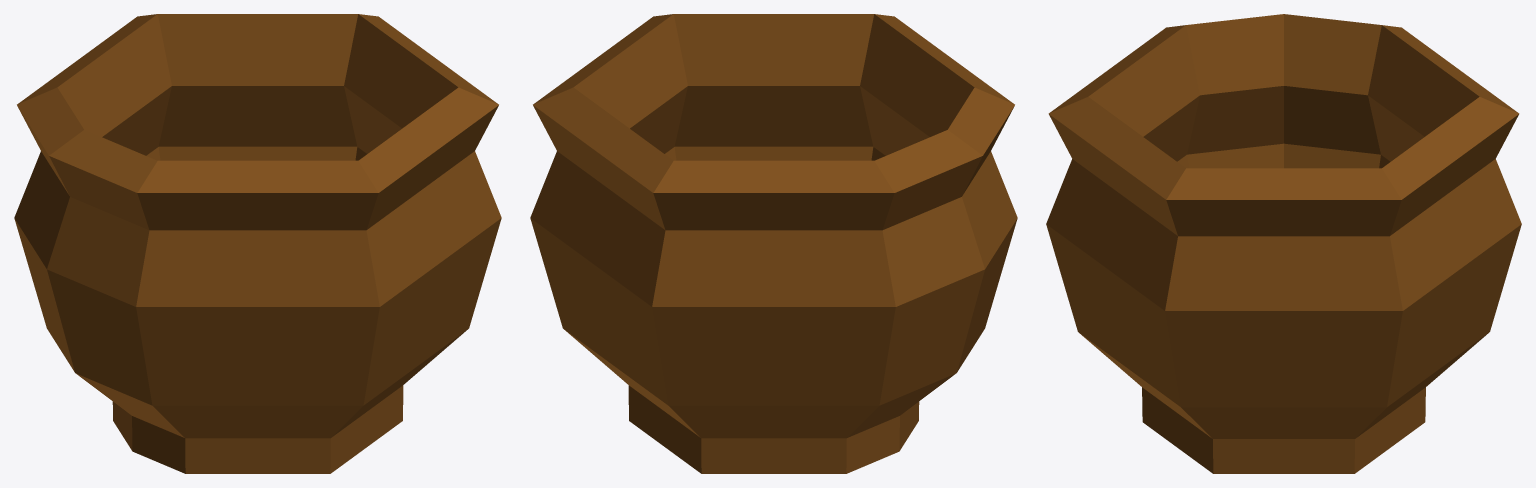
File: SM_pottery_03.fbx
3 renders of one model, left to right at view 1: azimuth 30°, elevation 25°; view 2: azimuth 150°, elevation 25°; view 3: azimuth 270°, elevation 25°, orthographic. The views are drawn at different scales.
Visible parts, largest first — view 1: Sphere002; view 2: Sphere002; view 3: Sphere002.
Boxes of the visible parts, x1,y1,x2,y2 form: Sphere002: [14, 14, 501, 473]; Sphere002: [530, 14, 1017, 473]; Sphere002: [1046, 14, 1521, 473].
Bounding box in the file's own units: 27.84 × 22.53 × 29.84.
